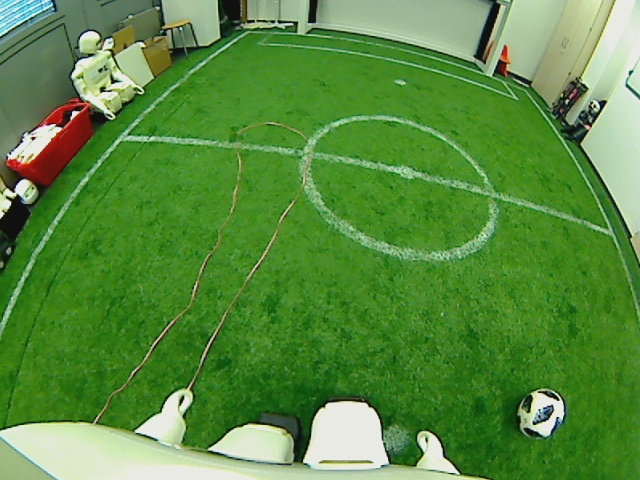ball: (514, 386, 567, 440)
